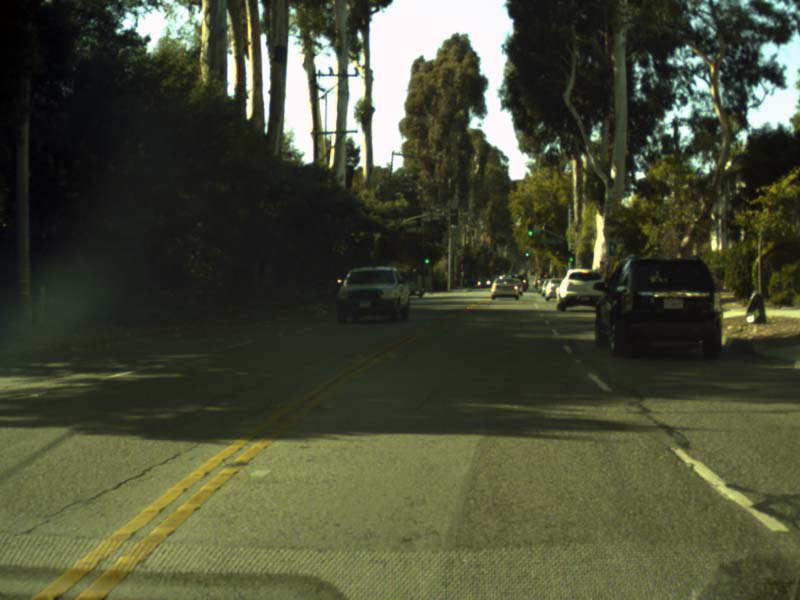Green: (568, 254, 574, 269), (527, 222, 532, 237), (423, 256, 430, 264), (524, 248, 529, 259)
